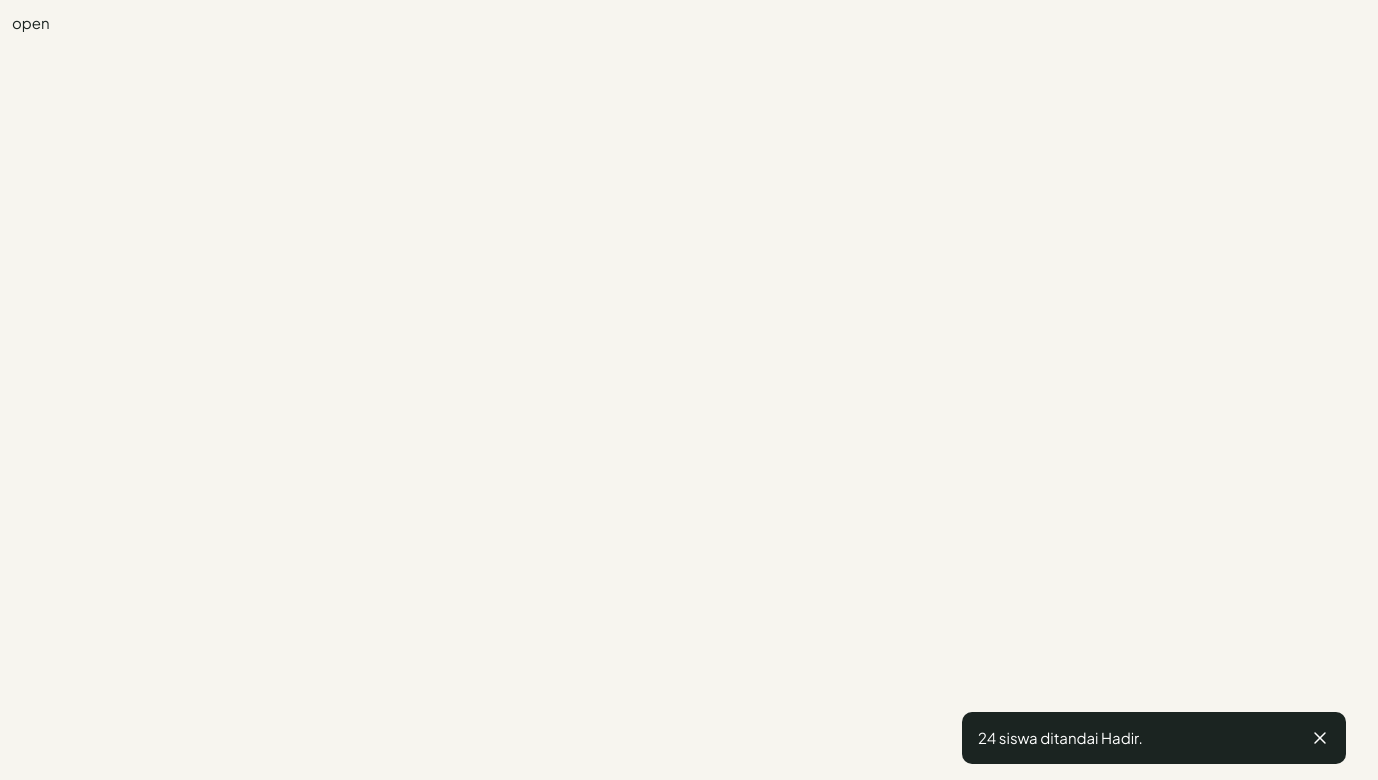
Test: Toast › can always be closed by hand (Tutup, 44 px)
This screenshot has width=1378, height=780.
Click the button named "Tutup" at (1320, 738), box x1=1298 y1=716 x2=1342 y2=760
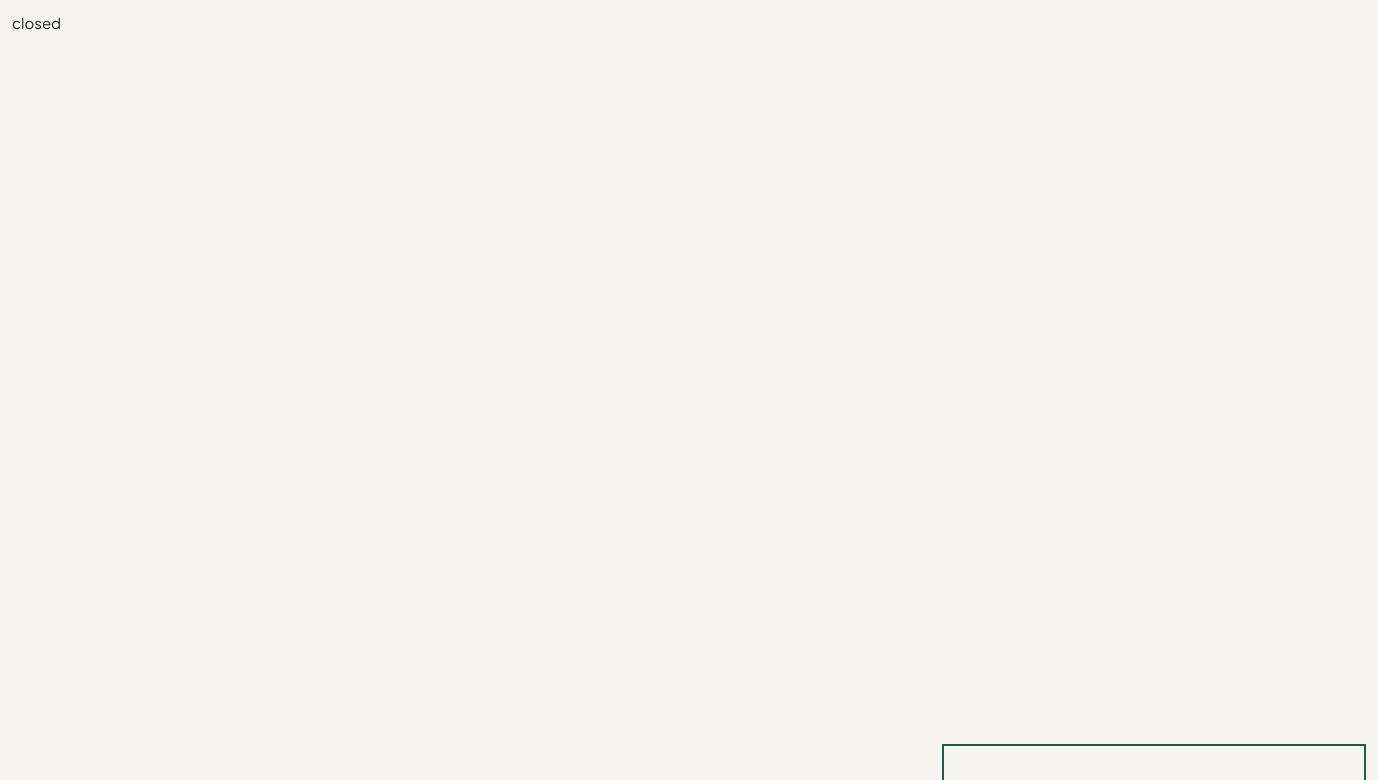
expect the text with test id "state" reads "closed": met, box x1=12 y1=13 x2=61 y2=32
